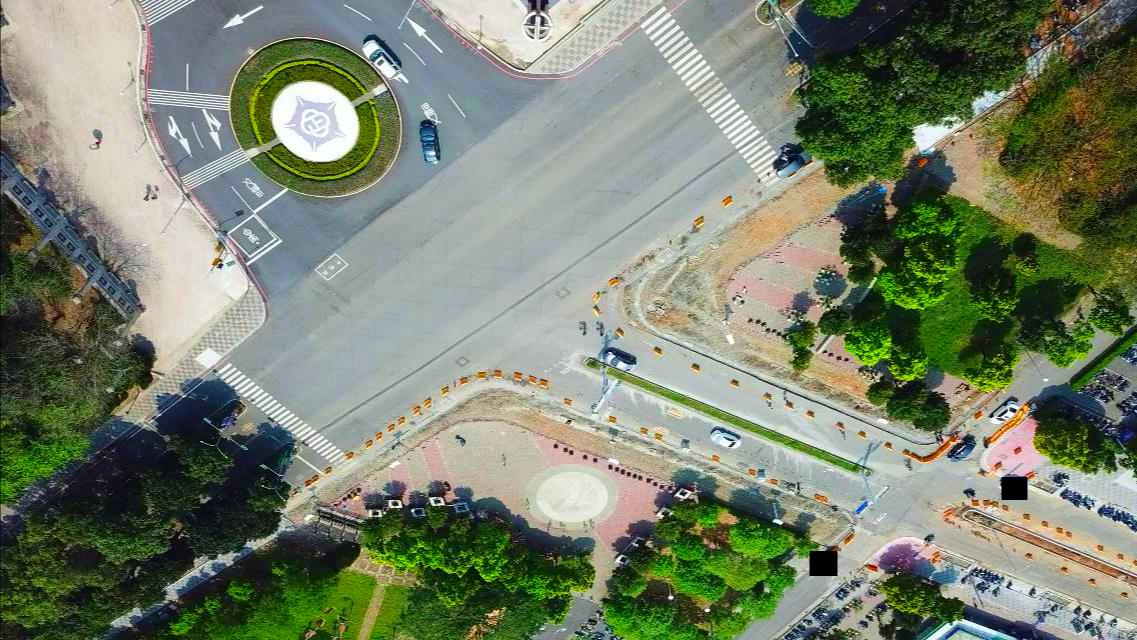vehicle: (362, 38, 401, 80), (773, 147, 812, 179), (418, 122, 440, 167), (946, 437, 976, 463), (603, 351, 637, 373), (989, 401, 1019, 425), (711, 429, 741, 449)
